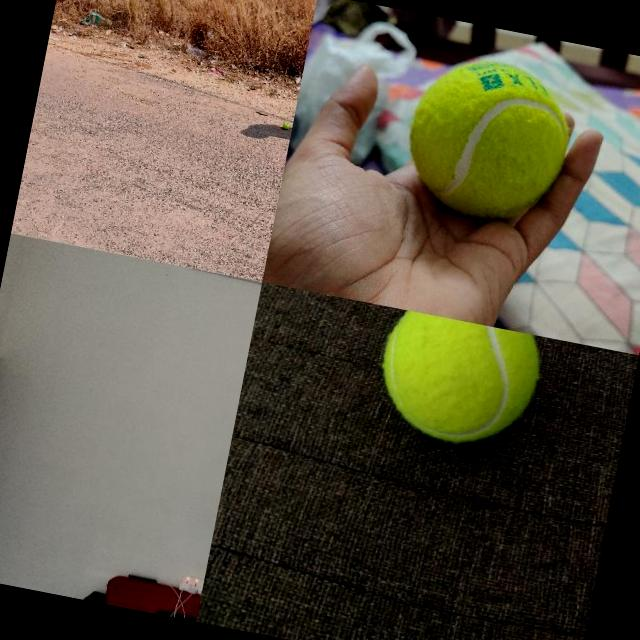tennis-ball: (396, 48, 580, 230), (368, 308, 546, 458), (282, 122, 289, 128)
